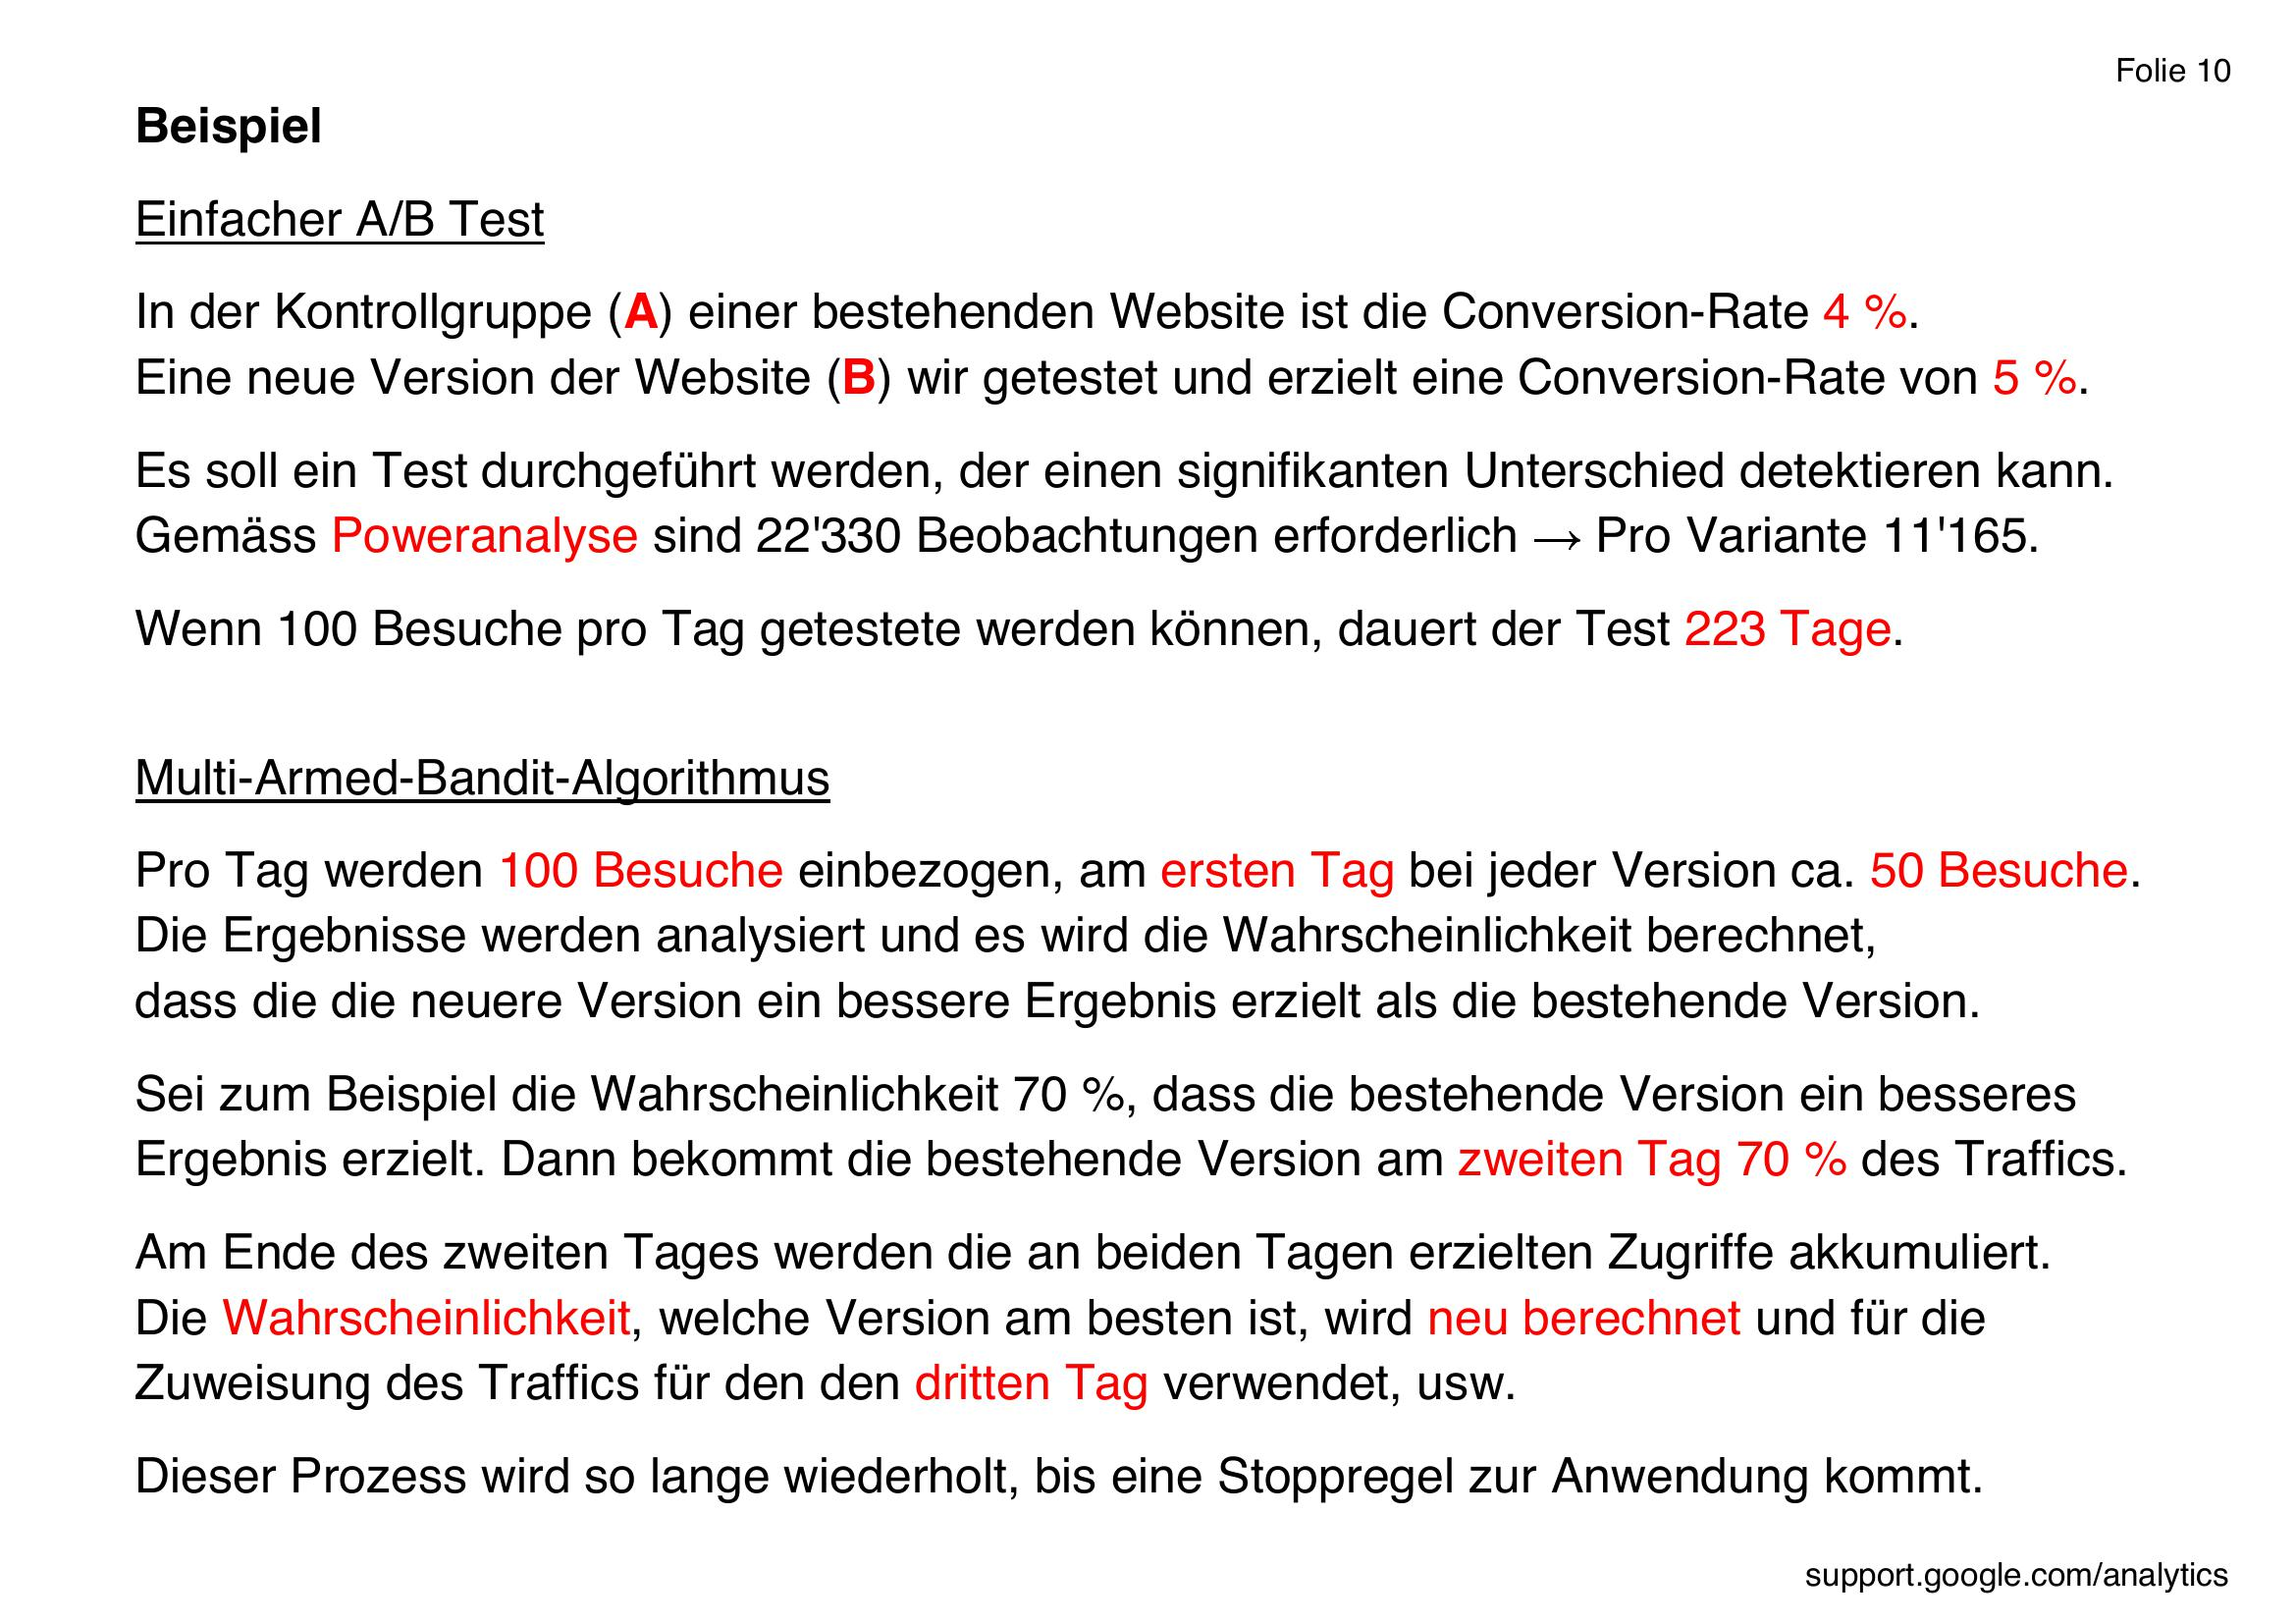Title: (111, 90, 342, 160)
